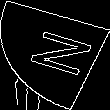N_E: (15, 27, 95, 83)
